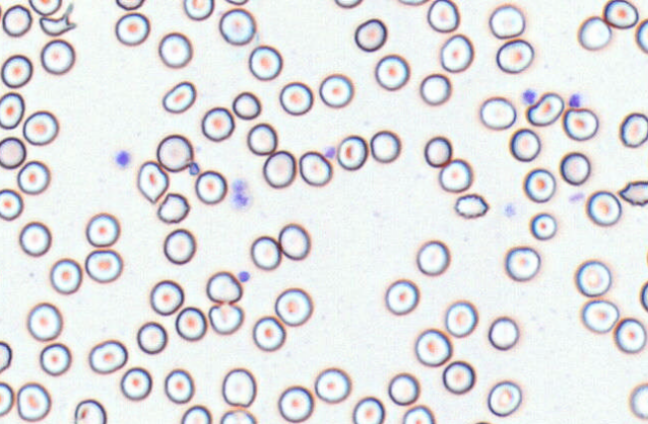PLT: (230, 193, 254, 211), (115, 149, 132, 169), (231, 176, 248, 193), (523, 87, 538, 105), (568, 95, 583, 109), (324, 146, 337, 160), (238, 270, 251, 282)
RBC: (274, 287, 312, 326), (218, 7, 256, 45), (414, 328, 451, 367), (156, 133, 193, 172), (26, 301, 62, 341), (574, 259, 611, 297), (221, 367, 256, 407), (16, 382, 51, 421), (580, 298, 619, 333), (88, 339, 127, 374), (495, 38, 534, 73), (277, 385, 313, 422), (585, 189, 621, 226), (314, 367, 351, 403), (488, 3, 525, 39), (374, 53, 409, 91), (84, 248, 122, 283), (439, 33, 473, 72), (504, 245, 540, 281), (384, 278, 419, 315), (486, 380, 521, 417), (157, 31, 192, 68), (262, 150, 296, 188), (40, 38, 75, 74), (149, 279, 184, 315), (22, 110, 58, 145), (318, 73, 354, 108), (205, 270, 242, 304), (444, 300, 478, 337), (416, 239, 450, 276), (479, 96, 516, 130), (85, 212, 120, 247), (562, 107, 598, 141), (298, 150, 332, 186), (114, 12, 150, 46), (248, 44, 282, 80), (49, 257, 82, 294), (278, 222, 310, 260), (577, 15, 611, 50), (200, 106, 234, 141), (278, 81, 313, 115), (252, 315, 285, 351), (523, 167, 556, 203), (163, 228, 196, 264), (16, 160, 50, 194), (438, 158, 472, 192), (441, 360, 475, 394), (194, 169, 227, 204), (18, 221, 51, 256), (614, 317, 646, 353), (336, 134, 368, 170), (119, 366, 152, 400), (0, 53, 32, 88), (509, 127, 541, 162), (174, 306, 206, 341), (354, 18, 387, 51), (39, 342, 71, 376), (487, 316, 519, 350), (369, 129, 401, 163), (250, 235, 281, 270), (164, 368, 194, 404), (387, 372, 419, 405), (426, 0, 459, 32), (559, 151, 590, 185), (419, 73, 451, 105), (1, 4, 32, 37), (246, 122, 277, 155), (136, 321, 167, 354), (619, 112, 648, 147), (603, 0, 638, 28), (0, 91, 25, 129), (423, 135, 452, 167), (454, 193, 488, 219), (231, 91, 261, 120), (352, 396, 384, 423), (0, 136, 26, 169), (73, 398, 106, 423), (529, 212, 557, 240), (0, 188, 23, 220), (629, 382, 648, 419), (401, 404, 435, 423), (183, 0, 214, 20), (180, 404, 211, 423), (28, 0, 62, 16), (219, 409, 256, 423), (0, 381, 14, 416), (635, 18, 648, 53), (0, 340, 12, 373), (115, 0, 145, 10), (639, 279, 648, 312), (334, 0, 363, 8), (397, 0, 429, 6), (223, 0, 249, 5), (644, 145, 648, 173), (469, 420, 495, 424), (645, 240, 648, 271), (0, 2, 2, 22)
Schistocyte: (135, 161, 171, 204), (528, 93, 564, 127), (156, 193, 191, 223), (617, 179, 648, 208), (38, 15, 79, 36)
